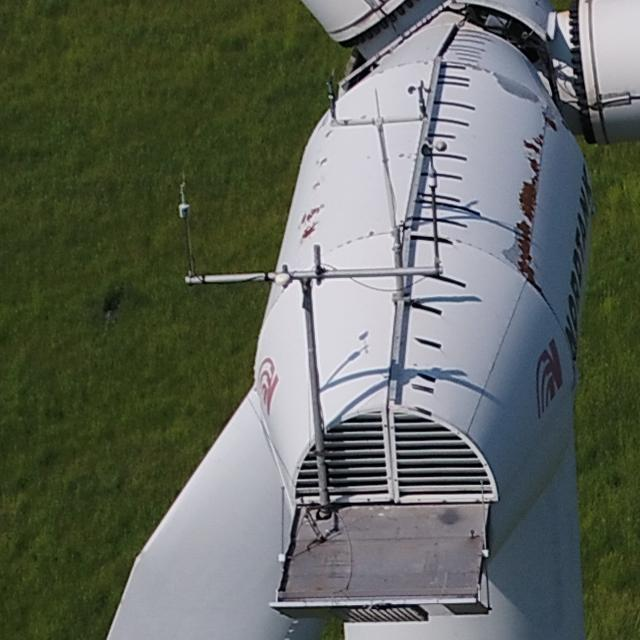damage: (523, 275, 561, 324), (510, 218, 537, 274), (517, 177, 539, 223), (300, 204, 324, 225), (543, 110, 562, 135), (523, 136, 542, 158), (525, 155, 541, 177), (301, 223, 318, 240), (323, 124, 333, 142), (533, 133, 545, 148), (318, 156, 330, 166), (313, 182, 322, 191)
